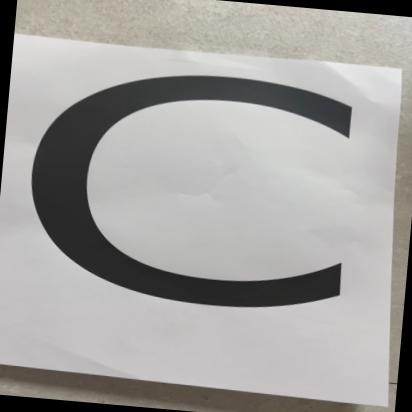seat: (0, 32, 409, 401)
